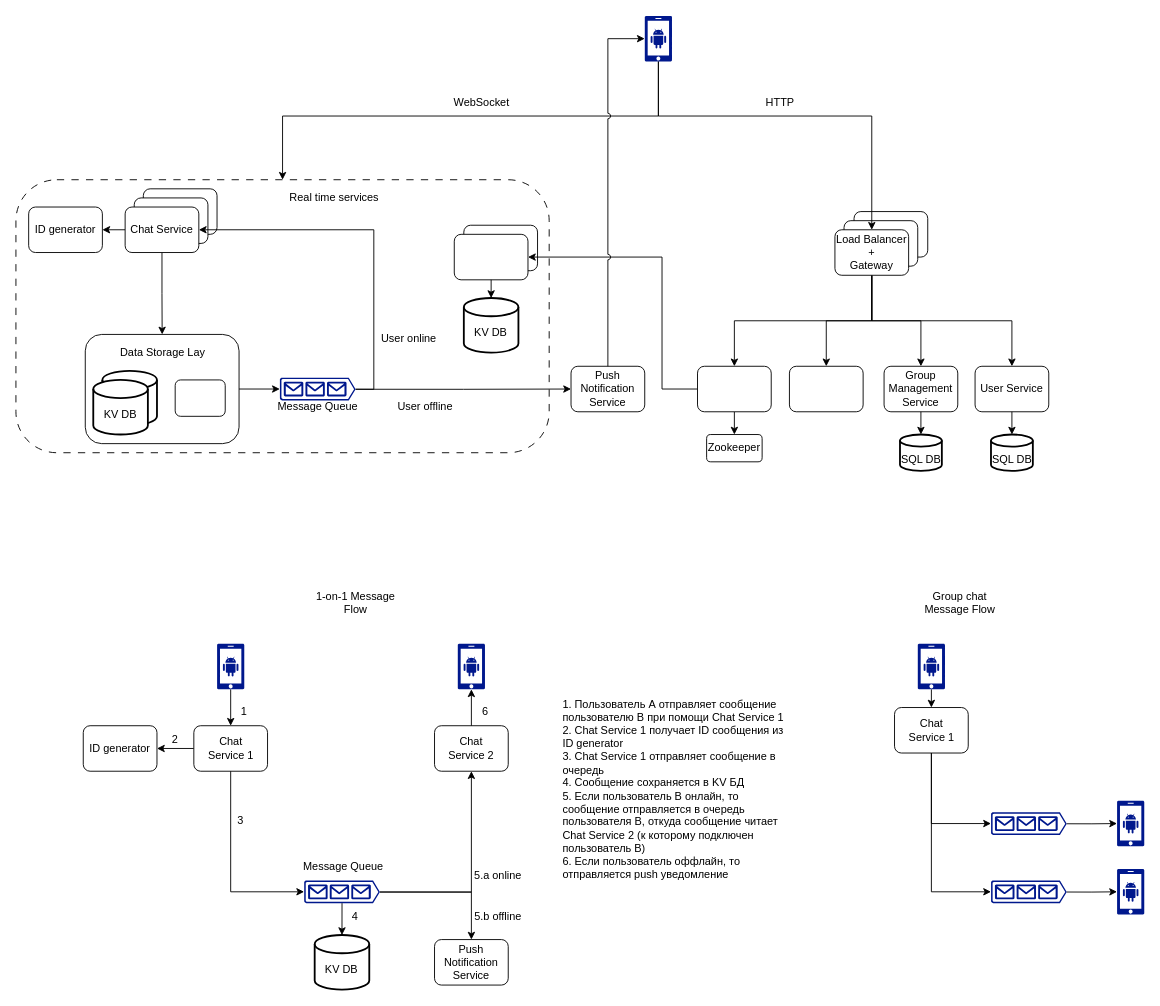
Some shapes in this 1160 by 1006 pixel diagram are drawn without their labels. The shapes that lost their labels are listed below. From the top down, each one's box as (x1, y1, x2, y2) in pixels, then its label:
(453, 233, 528, 280): Online Presence Service
(174, 379, 225, 416): Cache
(697, 365, 771, 412): Service Discovery Service
(789, 365, 863, 412): Auth Service
